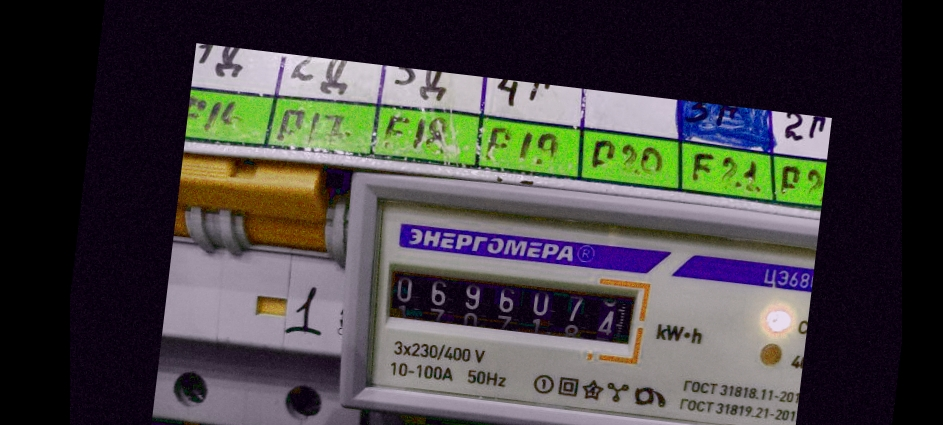0: (395, 272, 417, 303), (530, 287, 552, 316)
4: (596, 307, 617, 337)
6: (497, 283, 519, 313), (429, 277, 450, 306)
7: (565, 291, 587, 323)
9: (462, 281, 484, 311)
screen: (370, 247, 657, 366)
